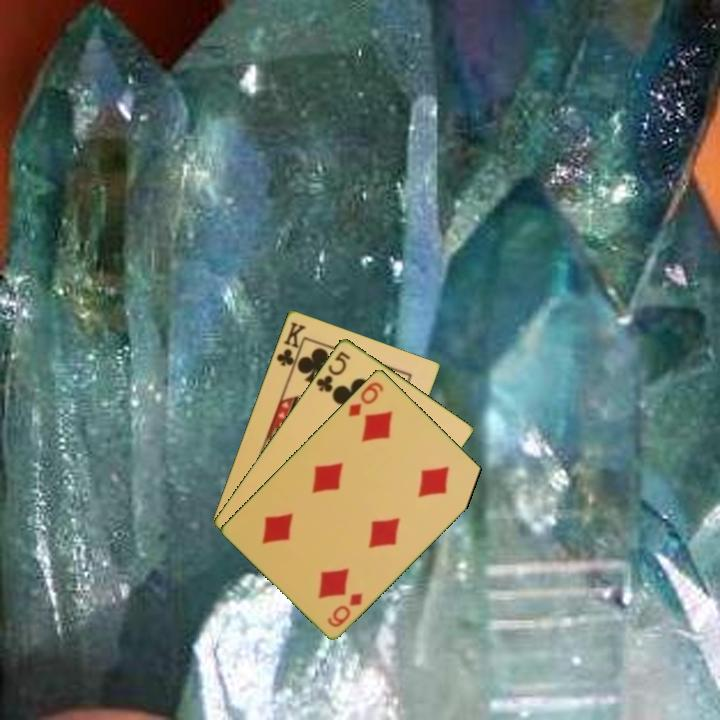5c: (312, 347, 353, 395)
6d: (324, 589, 366, 630), (345, 378, 386, 419)
Kc: (273, 318, 309, 375)
